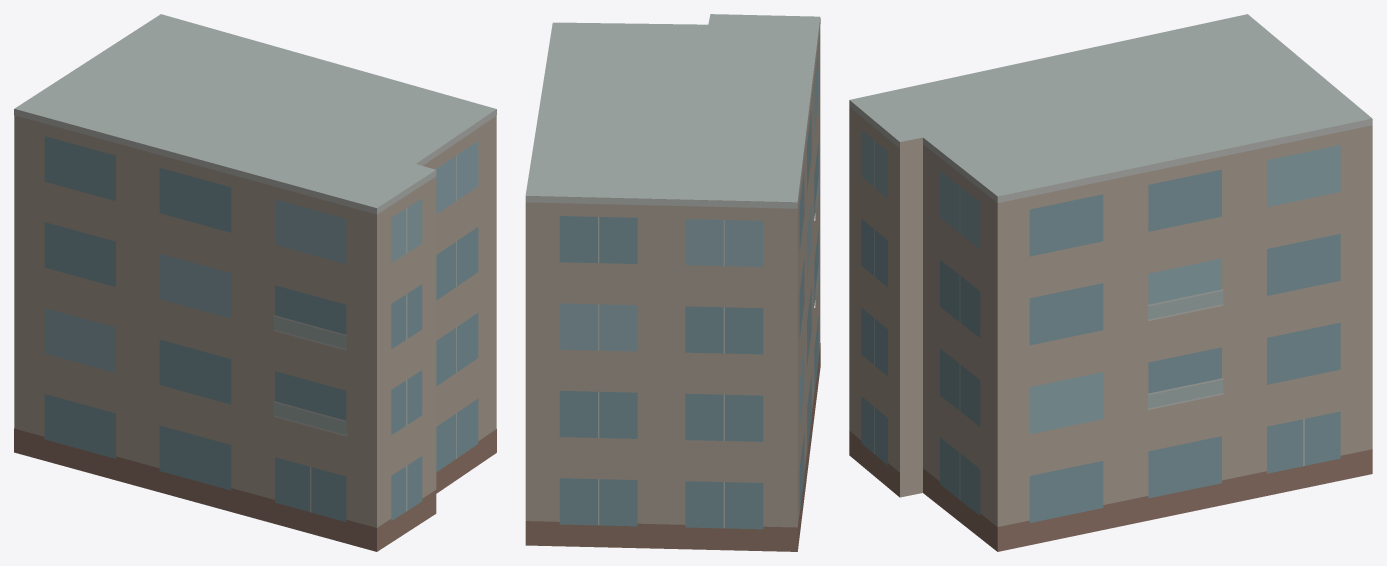
Rendered from survey-upis-32764599.glb.
The picture shows the model from 3 angles, left to right: view 1: azimuth 30°, elevation 25°; view 2: azimuth 150°, elevation 25°; view 3: azimuth 270°, elevation 25°; orthographic projection. The views are drawn at different scales.
Parts seen in each view (by area): view 1: survey-upis-32764599.tmp; view 2: survey-upis-32764599.tmp; view 3: survey-upis-32764599.tmp.
Boxes of the visible parts, x1,y1,x2,y2 form: survey-upis-32764599.tmp: [14, 14, 496, 551]; survey-upis-32764599.tmp: [525, 14, 820, 551]; survey-upis-32764599.tmp: [849, 14, 1372, 551].
Bounding box in the file's own units: 14.32 × 13 × 17.35.
